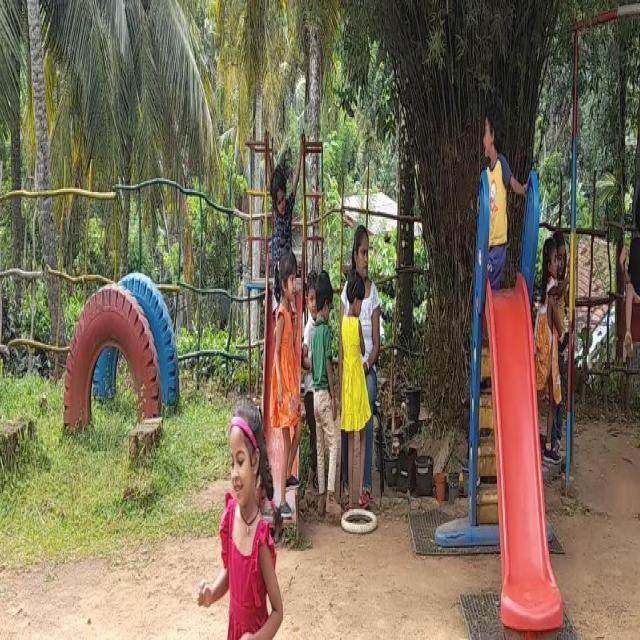child: (202, 415, 288, 640), (538, 196, 569, 438), (273, 249, 301, 492), (484, 103, 519, 292), (311, 271, 338, 509), (623, 179, 640, 367)
